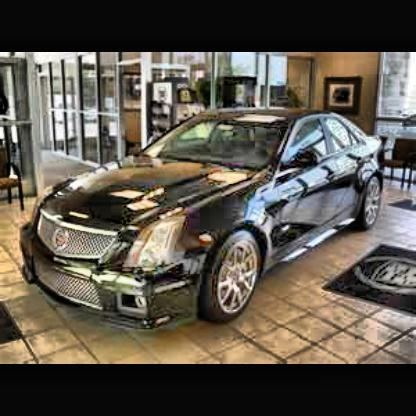Cadillac CTS-V Sedan 2012: (20, 107, 386, 338)
